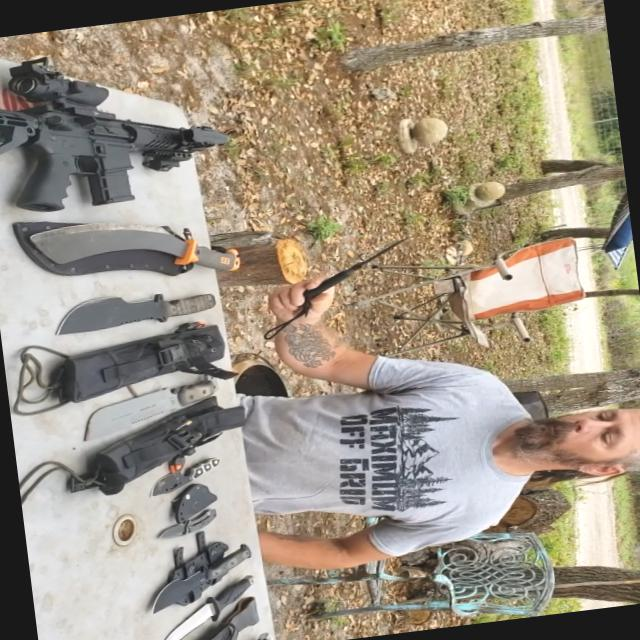knife: (4, 171, 265, 304), (285, 231, 414, 323), (51, 279, 232, 344), (134, 536, 264, 615), (88, 364, 226, 438), (135, 571, 276, 639), (137, 499, 235, 564), (134, 456, 240, 504)
long weapon: (0, 19, 261, 241)
